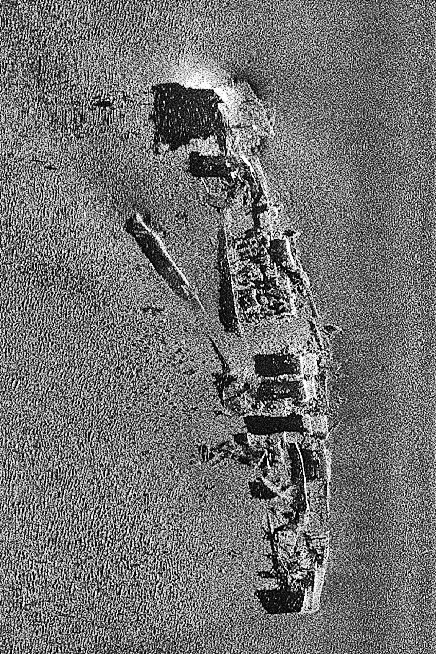ship: (126, 70, 339, 617)
